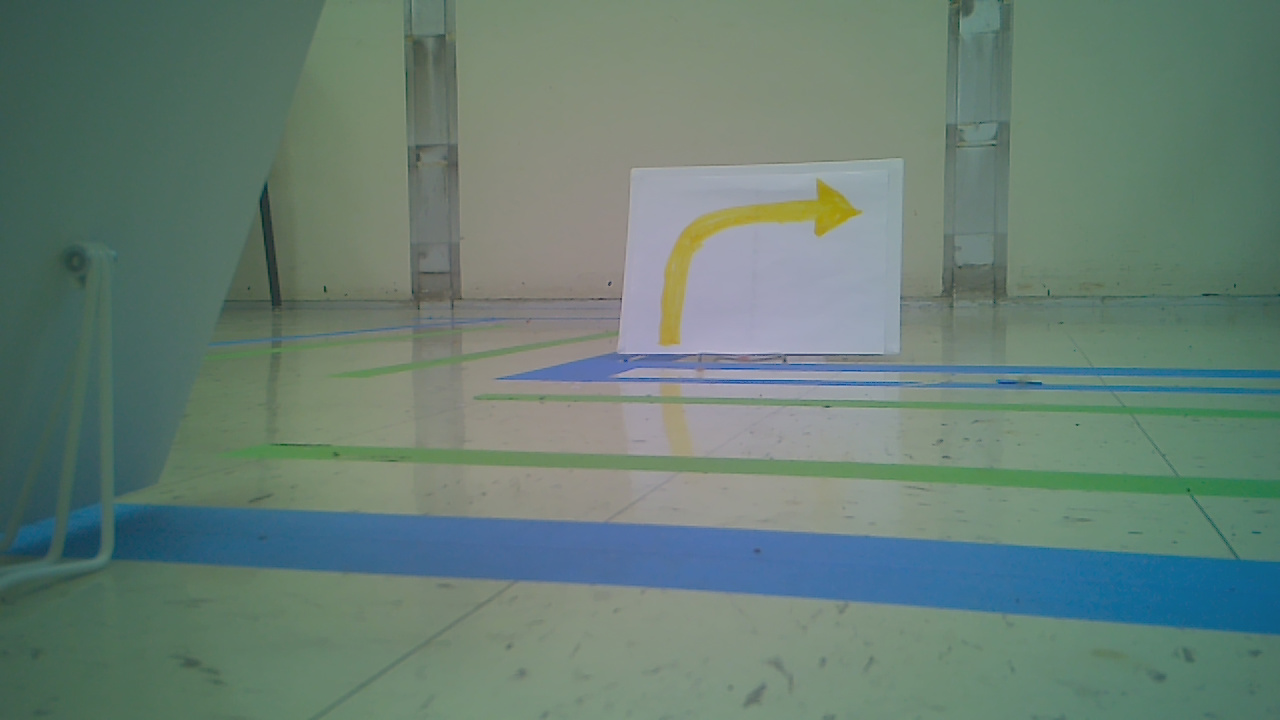greenline: (252, 439, 1276, 506), (486, 392, 1277, 423)
right: (657, 179, 863, 348)
